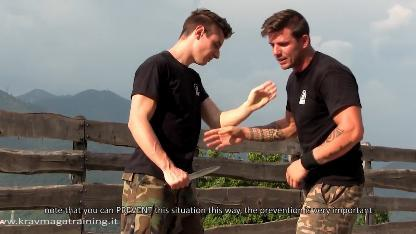knife: (160, 162, 224, 190)
